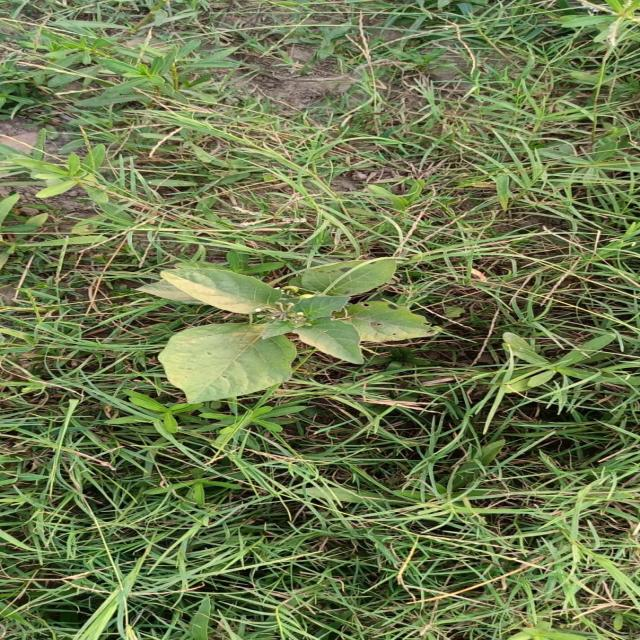plant: (137, 258, 438, 402)
